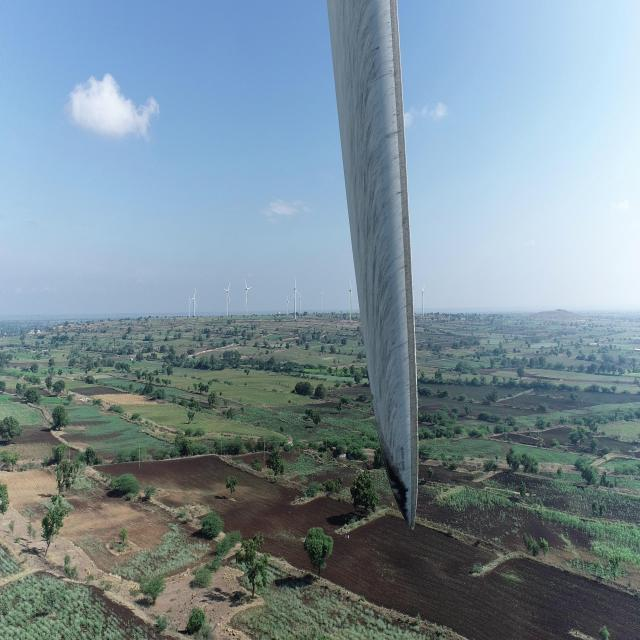Dirt: (326, 0, 421, 525)
Oil LEAKAGE: (379, 454, 413, 530)
Pin Hole: (402, 486, 412, 498)
